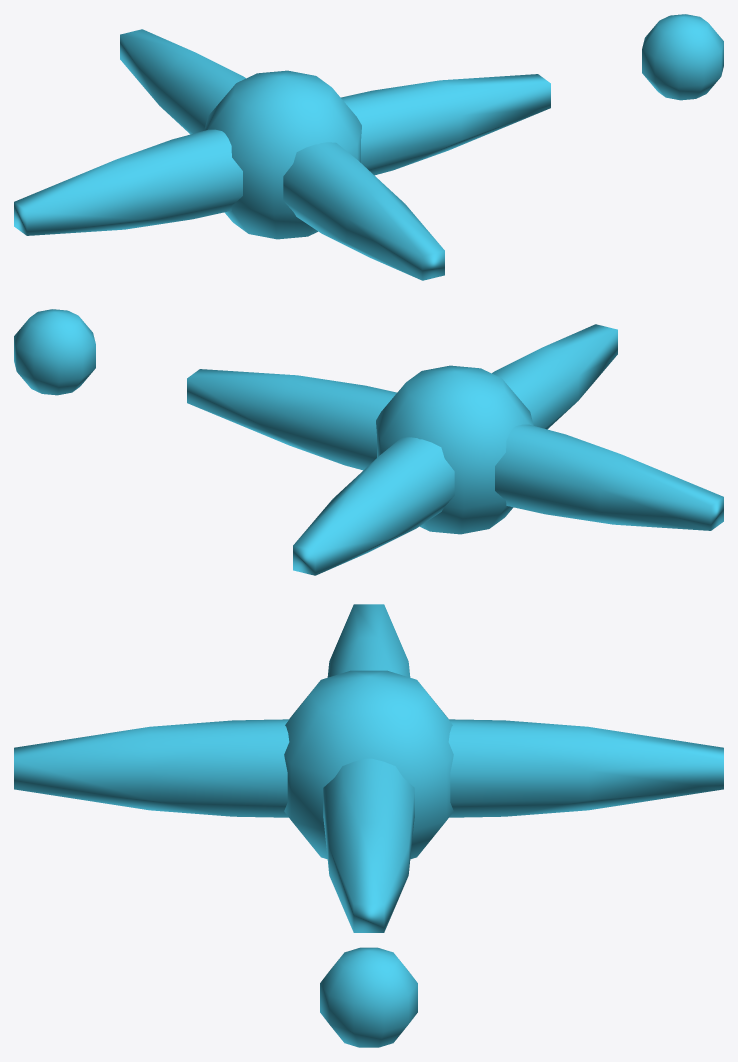
The picture shows the model from 3 angles, top to bottom: view 1: azimuth 30°, elevation 25°; view 2: azimuth 150°, elevation 25°; view 3: azimuth 270°, elevation 25°; orthographic projection. The views are drawn at different scales.
Visible parts, largest first — view 1: 나선수리검 (×2), 빨간정령 껍데기002, 빨간정령 껍데기001; view 2: 나선수리검 (×2), 빨간정령 껍데기002, 빨간정령 껍데기001; view 3: 나선수리검 (×2), 빨간정령 껍데기002, 빨간정령 껍데기001.
Part boxes in pixels (left/top/right/bottom): 나선수리검 (×2): left=14, top=29, right=550, bottom=280; 빨간정령 껍데기002: left=204, top=70, right=361, bottom=239; 빨간정령 껍데기001: left=642, top=14, right=723, bottom=100; 나선수리검 (×2): left=187, top=324, right=723, bottom=575; 빨간정령 껍데기002: left=376, top=365, right=533, bottom=534; 빨간정령 껍데기001: left=14, top=309, right=95, bottom=395; 나선수리검 (×2): left=14, top=604, right=723, bottom=932; 빨간정령 껍데기002: left=284, top=670, right=453, bottom=859; 빨간정령 껍데기001: left=320, top=947, right=417, bottom=1047.
Bounding box in the file's own units: 72.69 × 15.56 × 54.67.
